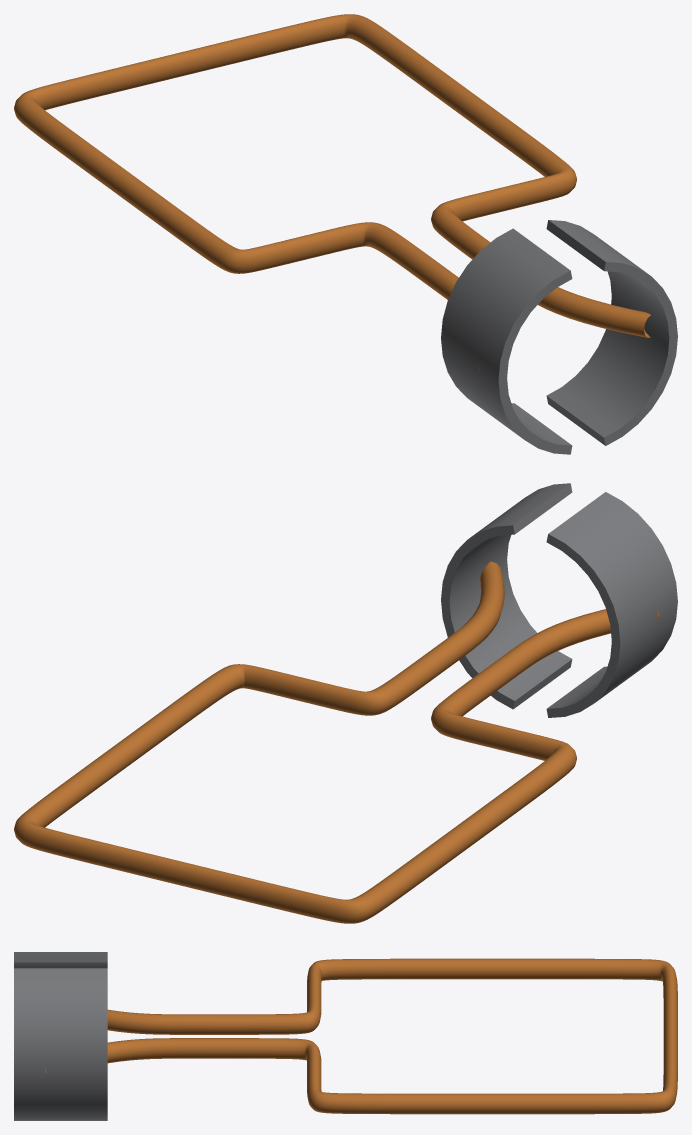
File: DCcoil8.glb
3 renders of one model, top to bottom at view 1: azimuth 30°, elevation 25°; view 2: azimuth 150°, elevation 25°; view 3: azimuth 270°, elevation 25°, orthographic. The views are drawn at different scales.
Parts seen in each view (by area): view 1: NURBSパス.006, 円柱.003, 円柱.001; view 2: NURBSパス.006, 円柱.003, 円柱.001; view 3: NURBSパス.006, 円柱.001, 円柱.003.
Part boxes in pixels (x1=…): NURBSパス.006: x1=14, y1=14, x2=650, y2=368; 円柱.003: x1=441, y1=228, x2=572, y2=454; 円柱.001: x1=546, y1=220, x2=677, y2=445; NURBSパス.006: x1=14, y1=561, x2=659, y2=923; 円柱.003: x1=546, y1=492, x2=677, y2=717; 円柱.001: x1=441, y1=483, x2=572, y2=709; NURBSパス.006: x1=45, y1=958, x2=677, y2=1114; 円柱.001: x1=14, y1=968, x2=107, y2=1120; 円柱.003: x1=14, y1=952, x2=107, y2=968.
Size of the model in its own units: 3.62 by 1.77 by 7.08.
